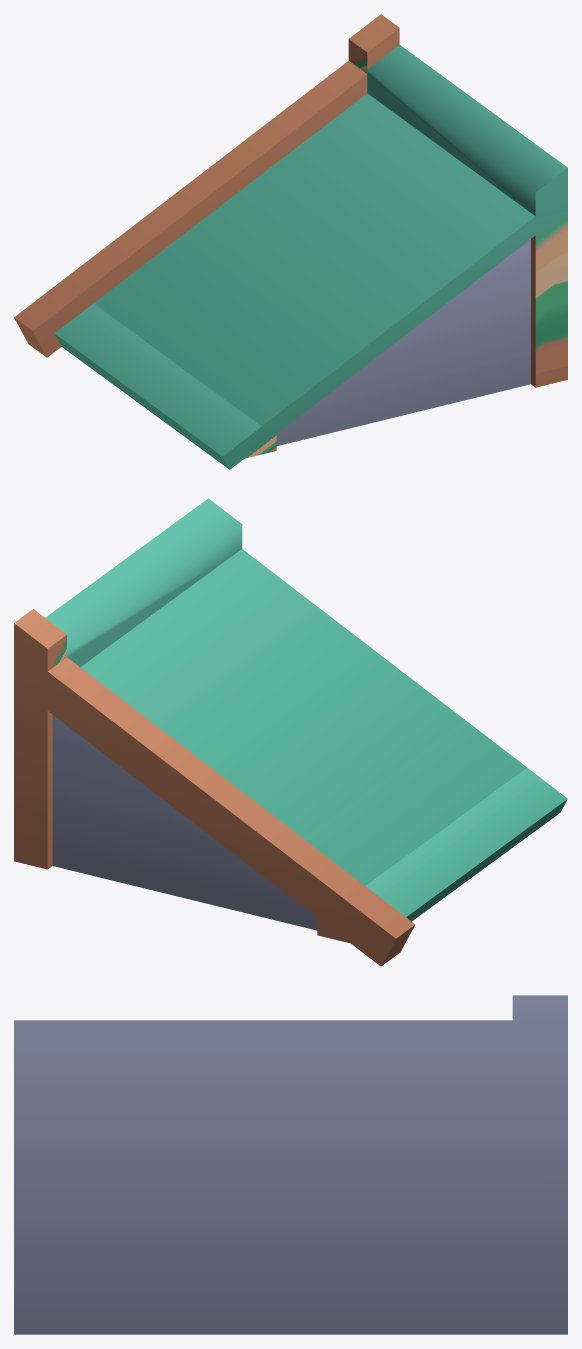
Rendered from roof-left.glb.
The picture shows the model from 3 angles, top to bottom: view 1: azimuth 30°, elevation 25°; view 2: azimuth 150°, elevation 25°; view 3: azimuth 270°, elevation 25°; orthographic projection. The views are drawn at different scales.
Parts seen in each view (by area): view 1: roof-left; view 2: roof-left; view 3: roof-left.
Boxes of the visible parts, x1=… form: roof-left: x1=14, y1=14, x2=567, y2=469; roof-left: x1=14, y1=498, x2=567, y2=966; roof-left: x1=14, y1=995, x2=567, y2=1334.
Size of the model in its own units: 1.13 by 0.7206 by 1.
Materials: 1 (1 with a texture image).
